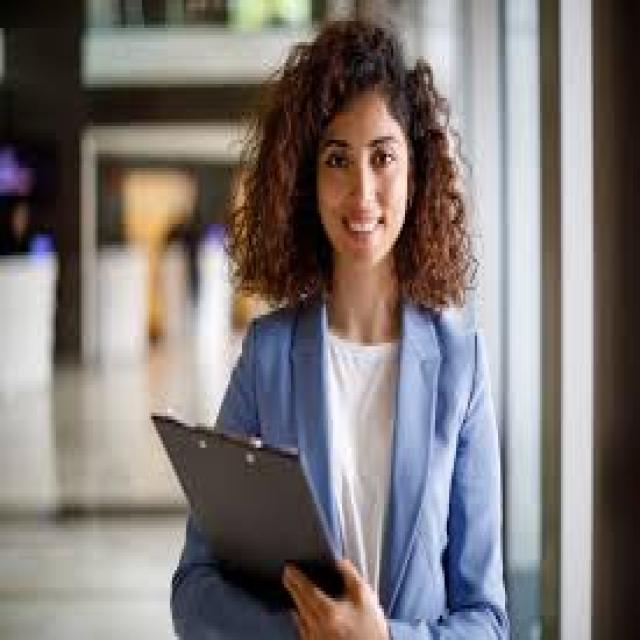without_helmet: (275, 6, 456, 349)
